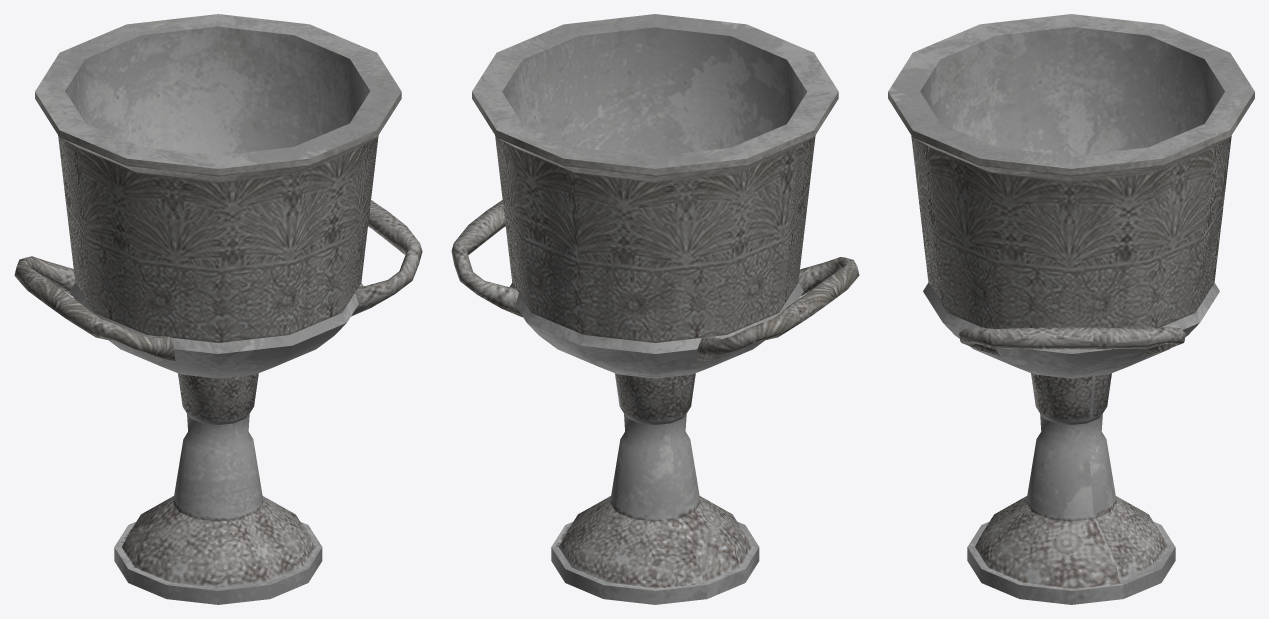
Rendered from copaGenerica3.FBX.
3 views of the same model, side by side, from view 1: azimuth 30°, elevation 25°; view 2: azimuth 150°, elevation 25°; view 3: azimuth 270°, elevation 25° (orthographic).
Parts seen in each view (by area): view 1: copaGenerica3; view 2: copaGenerica3; view 3: copaGenerica3.
Boxes of the visible parts, box(x1,y1,x2,y2) form: copaGenerica3: box(14, 14, 422, 604); copaGenerica3: box(451, 14, 859, 604); copaGenerica3: box(888, 14, 1254, 604).
Bounding box in the file's own units: 59.6 × 77.1 × 54.58.
